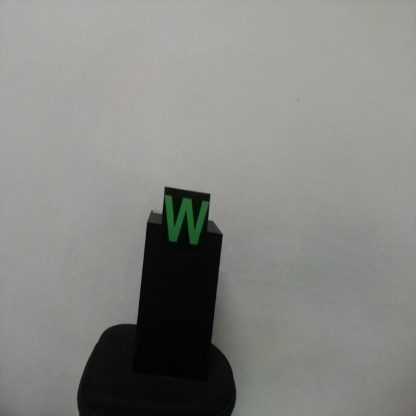id_12: (164, 188, 210, 258)
